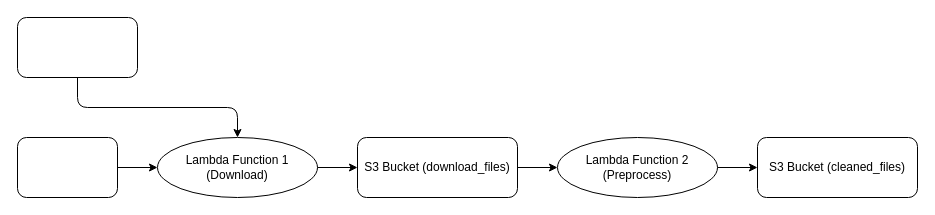
The diagram is 935 pixels wide and 215 high, and some of its shapes have lost their labels. The shapes that lost their labels are listed below. From the top down, each one's centre as x and y in pixels, then its label:
At point (77, 47): "AWS EventBridge".
At point (67, 167): "Website".
